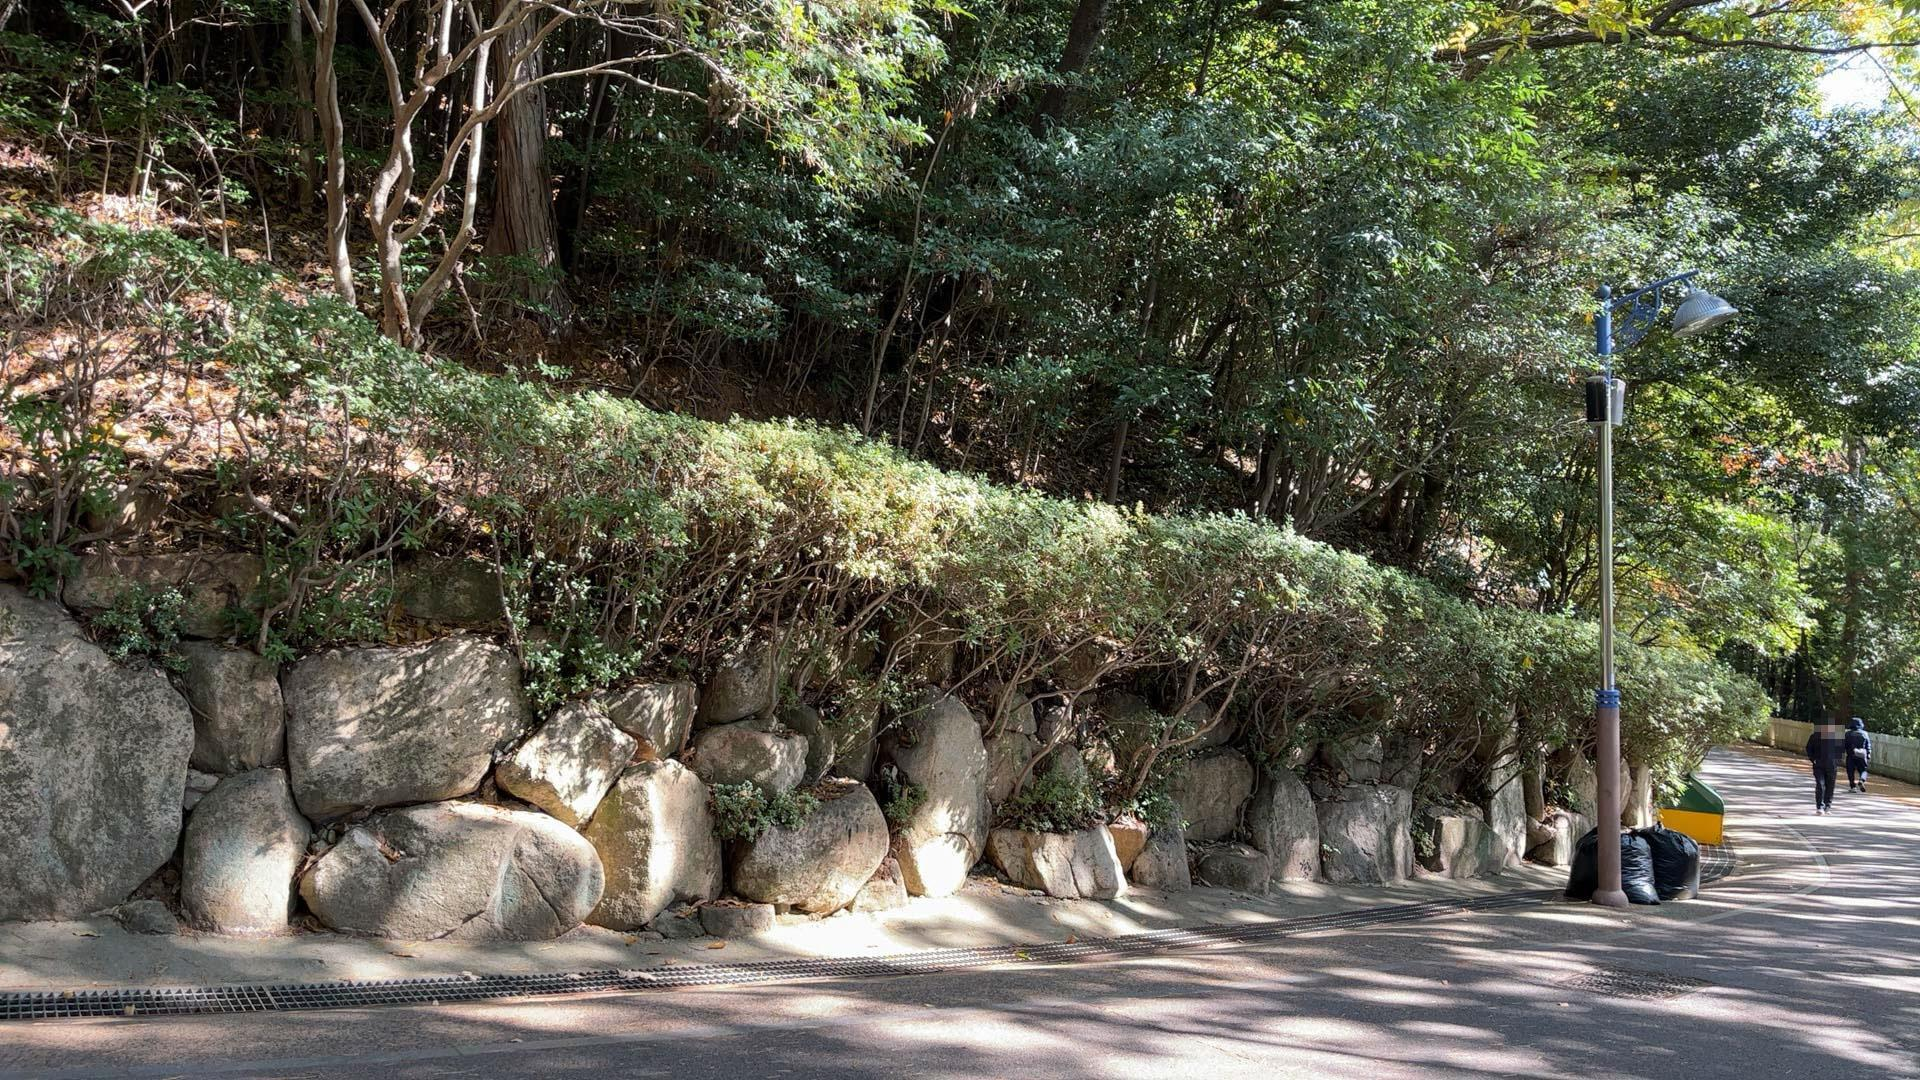black_bag: (1563, 818, 1660, 906), (1630, 819, 1702, 902)
